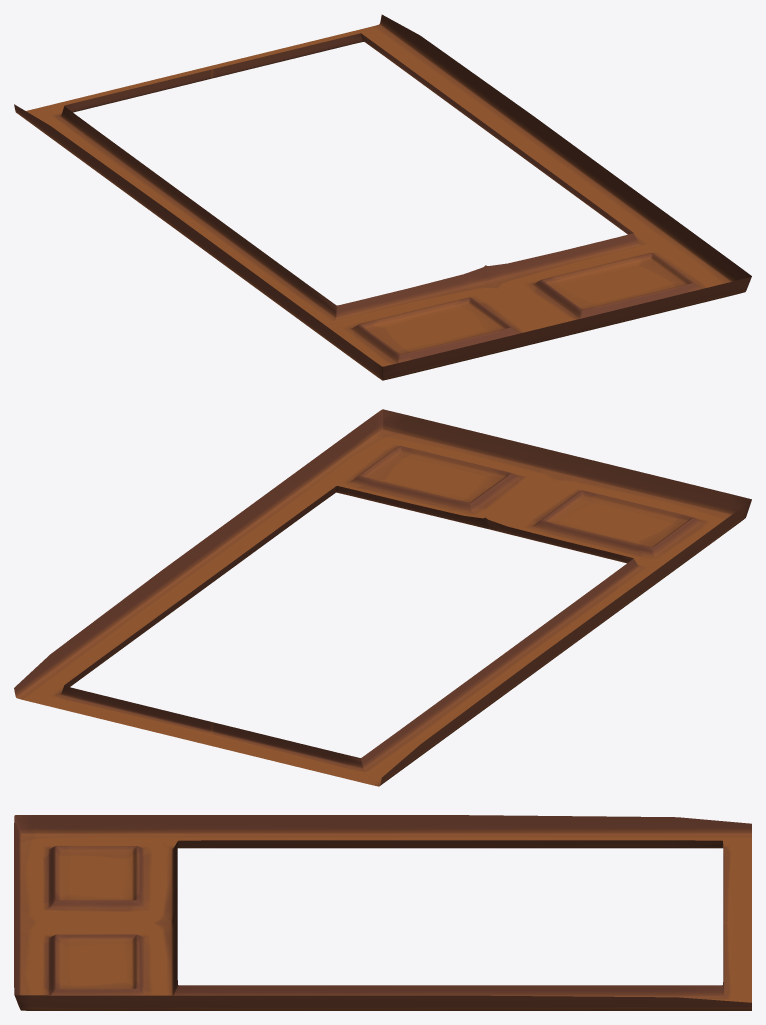
The model's file is marcopuerta.obj.
3 renders of one model, top to bottom at view 1: azimuth 30°, elevation 25°; view 2: azimuth 150°, elevation 25°; view 3: azimuth 270°, elevation 25°, orthographic.
Visible parts, largest first — view 1: mesh_id6_sep773; view 2: mesh_id6_sep773; view 3: mesh_id6_sep773.
Boxes of the visible parts, box(x1,y1,x2,y2) form: mesh_id6_sep773: box(14, 14, 751, 380); mesh_id6_sep773: box(14, 409, 751, 786); mesh_id6_sep773: box(14, 815, 751, 1010).
Bounding box in the file's own units: 0.0359 × 0.00165 × 0.0621.
Materials: 1 (1 with a texture image).
